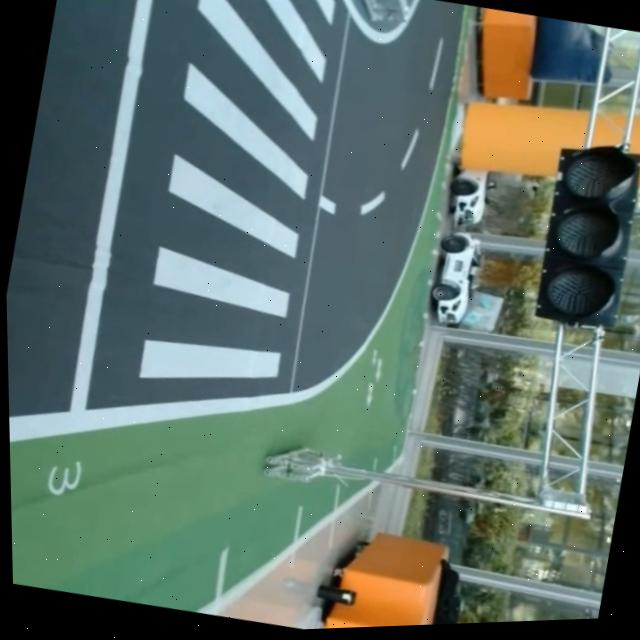traffic-light: (526, 132, 640, 340)
